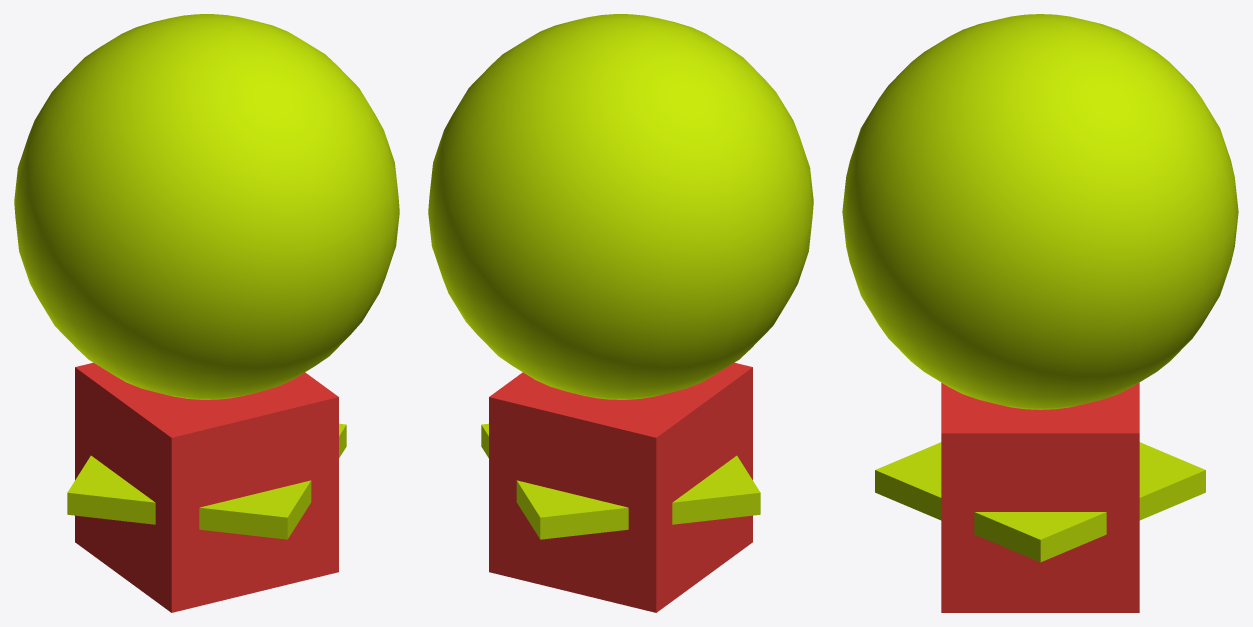
File: thing.gltf
The picture shows the model from 3 angles, left to right: view 1: azimuth 30°, elevation 25°; view 2: azimuth 150°, elevation 25°; view 3: azimuth 270°, elevation 25°; orthographic projection. The views are drawn at different scales.
Visible parts, largest first — view 1: Sphere, Cube, Cube.001; view 2: Sphere, Cube, Cube.001; view 3: Sphere, Cube, Cube.001.
Boxes of the visible parts, left/top/right/bottom form: Sphere: left=14, top=14, right=399, bottom=399; Cube: left=75, top=362, right=338, bottom=612; Cube.001: left=67, top=423, right=346, bottom=539; Sphere: left=428, top=14, right=813, bottom=399; Cube: left=489, top=362, right=752, bottom=612; Cube.001: left=481, top=423, right=760, bottom=539; Sphere: left=842, top=14, right=1238, bottom=409; Cube: left=941, top=382, right=1139, bottom=612; Cube.001: left=875, top=442, right=1205, bottom=562.
Bounding box in the file's own units: 2 × 3 × 2.
